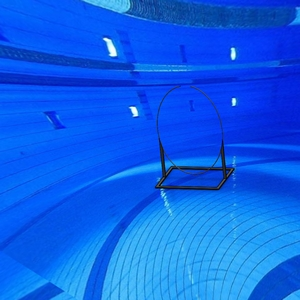circle: (153, 84, 235, 194)
